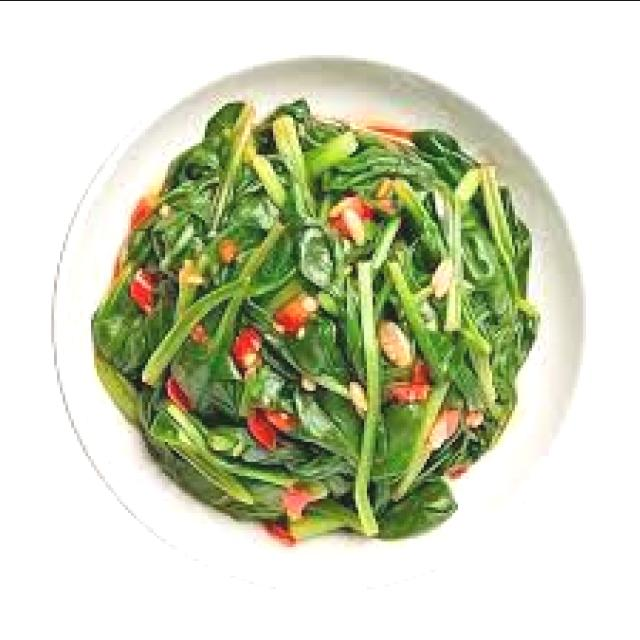tumis kangkung: (92, 104, 532, 548)
